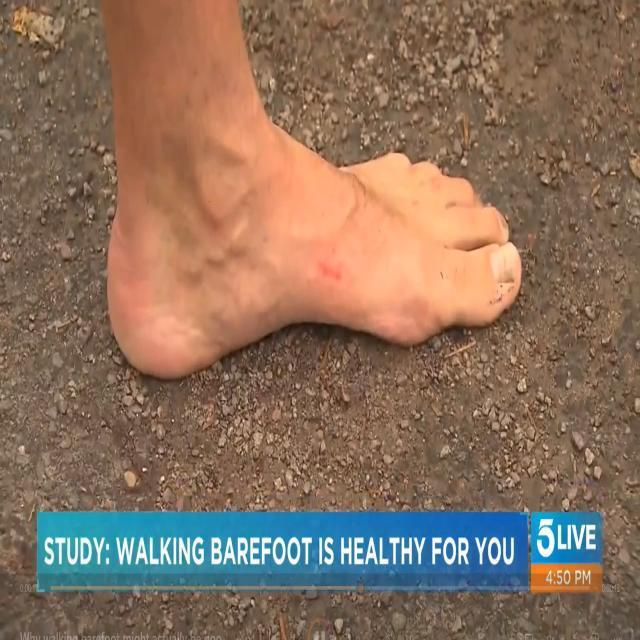No_Shoe: (91, 20, 528, 388)
